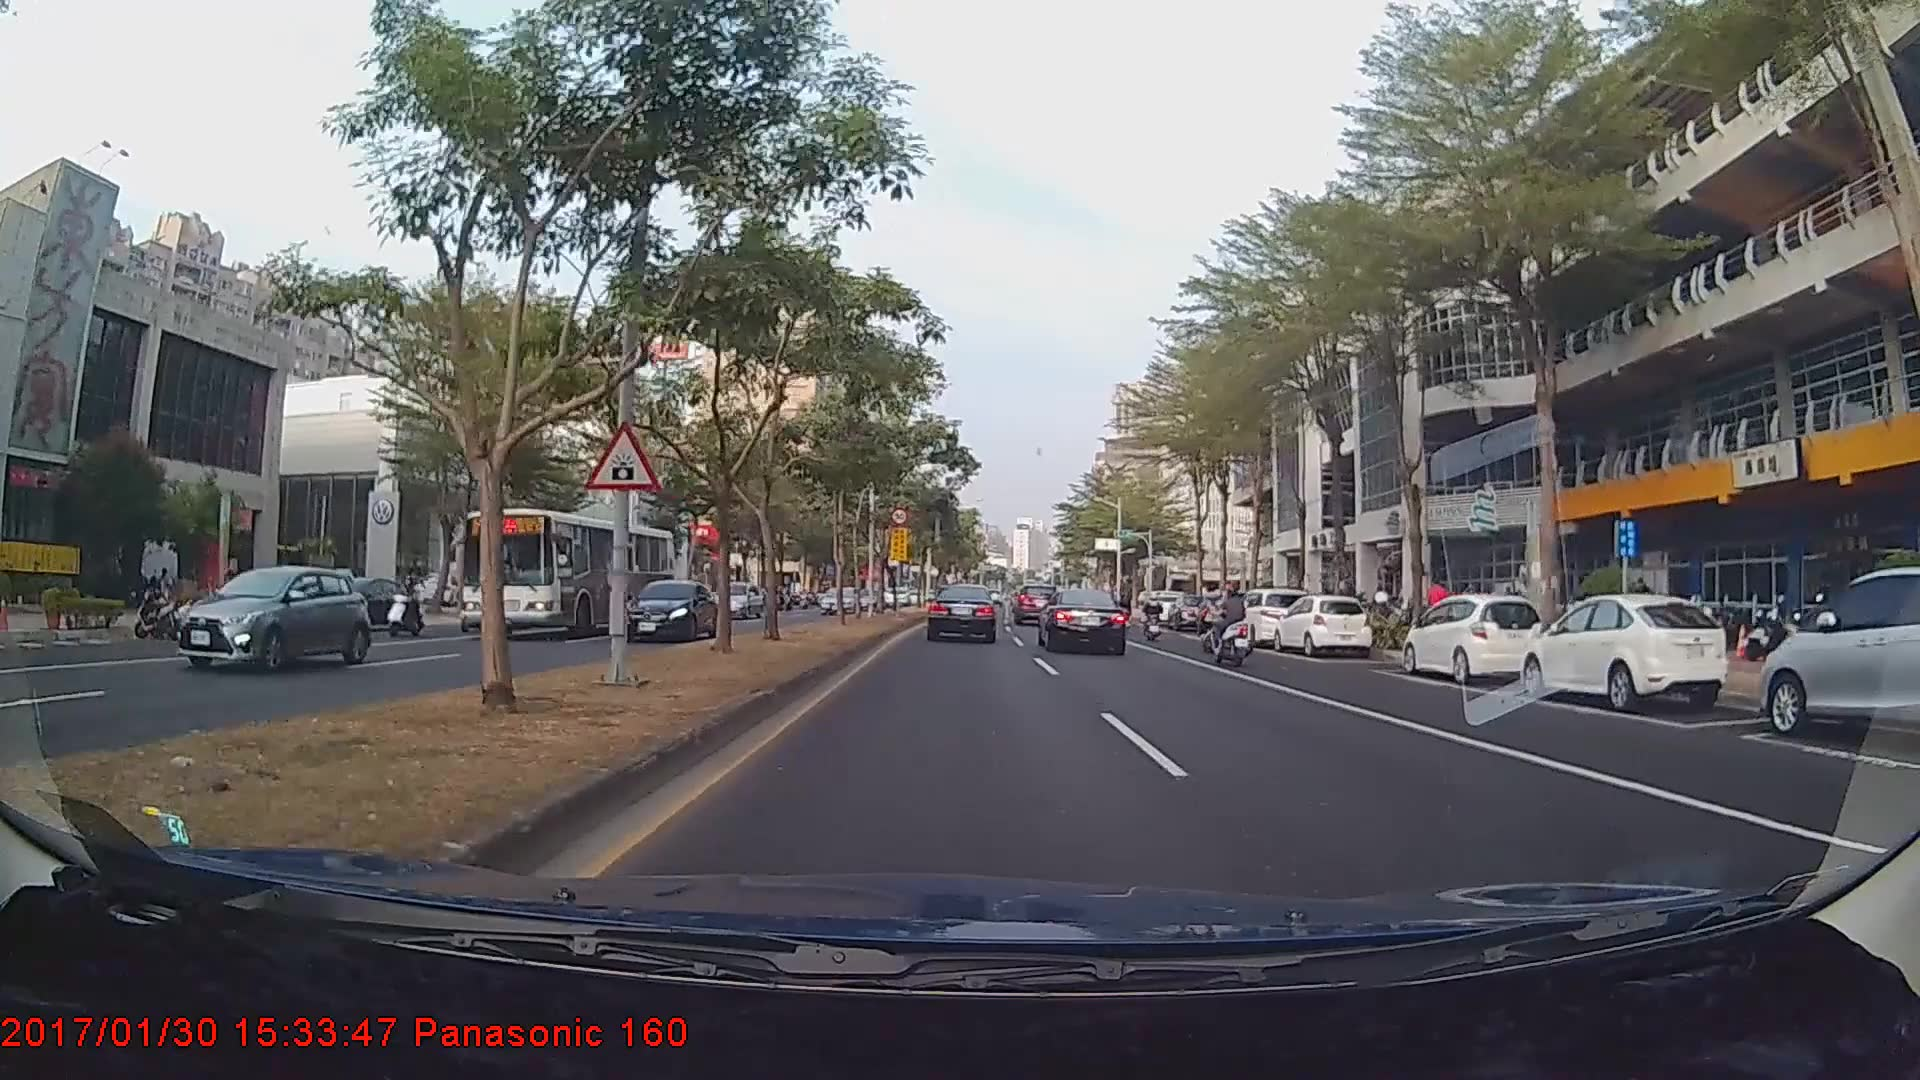rider: (1206, 582, 1260, 671), (380, 574, 432, 641), (1200, 589, 1244, 654), (1143, 586, 1169, 642)
vehicle: (1757, 561, 1920, 755), (460, 508, 678, 641), (1519, 591, 1729, 712), (172, 565, 370, 673), (1405, 592, 1550, 684), (1273, 593, 1371, 657), (1038, 587, 1129, 655), (619, 577, 718, 640), (1222, 584, 1314, 643), (326, 576, 416, 631), (926, 582, 1000, 644), (1012, 582, 1061, 624), (706, 581, 762, 618), (815, 583, 860, 612)
